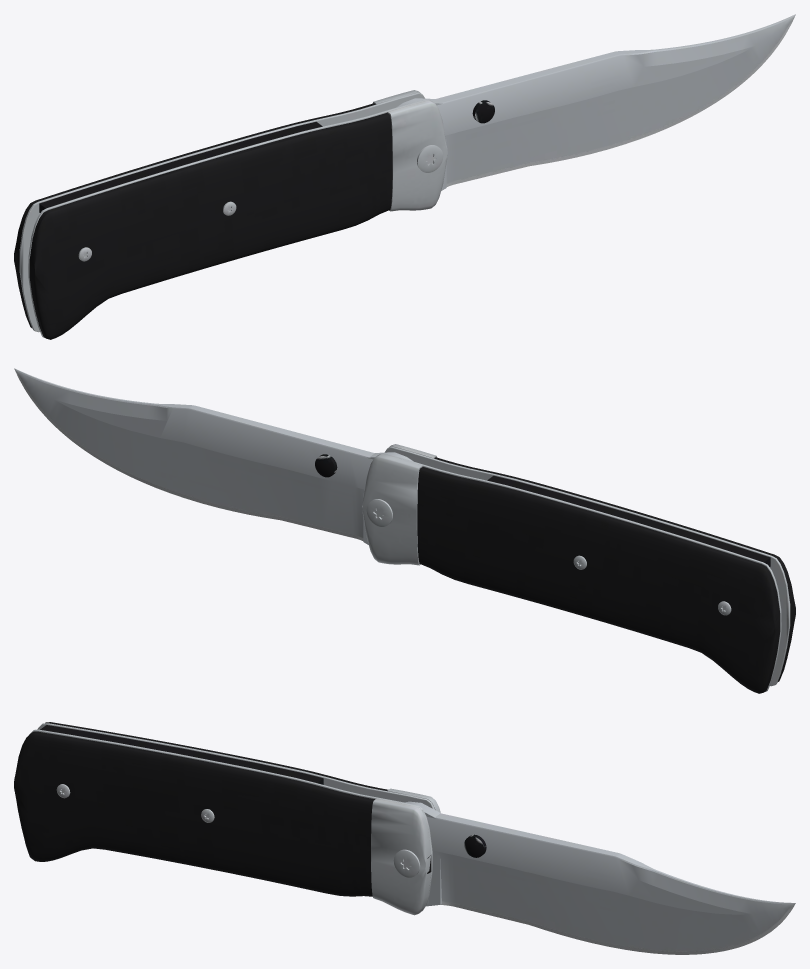
Rendered from falchion_lod1.glb.
3 views of the same model, one above another, from view 1: azimuth 30°, elevation 25°; view 2: azimuth 150°, elevation 25°; view 3: azimuth 330°, elevation 25° (orthographic).
Visible parts, largest first — view 1: body, blade_pivot_mesh; view 2: body, blade_pivot_mesh; view 3: body, blade_pivot_mesh.
Boxes of the visible parts, left/top/right/bottom form: body: left=14, top=90, right=447, bottom=339; blade_pivot_mesh: left=396, top=14, right=795, bottom=190; body: left=362, top=444, right=795, bottom=693; blade_pivot_mesh: left=14, top=368, right=413, bottom=544; body: left=14, top=722, right=440, bottom=915; blade_pivot_mesh: left=404, top=801, right=795, bottom=954.
Size of the model in its own units: 0.278 by 0.0505 by 0.0155.
Materials: 5 (5 with a texture image).
